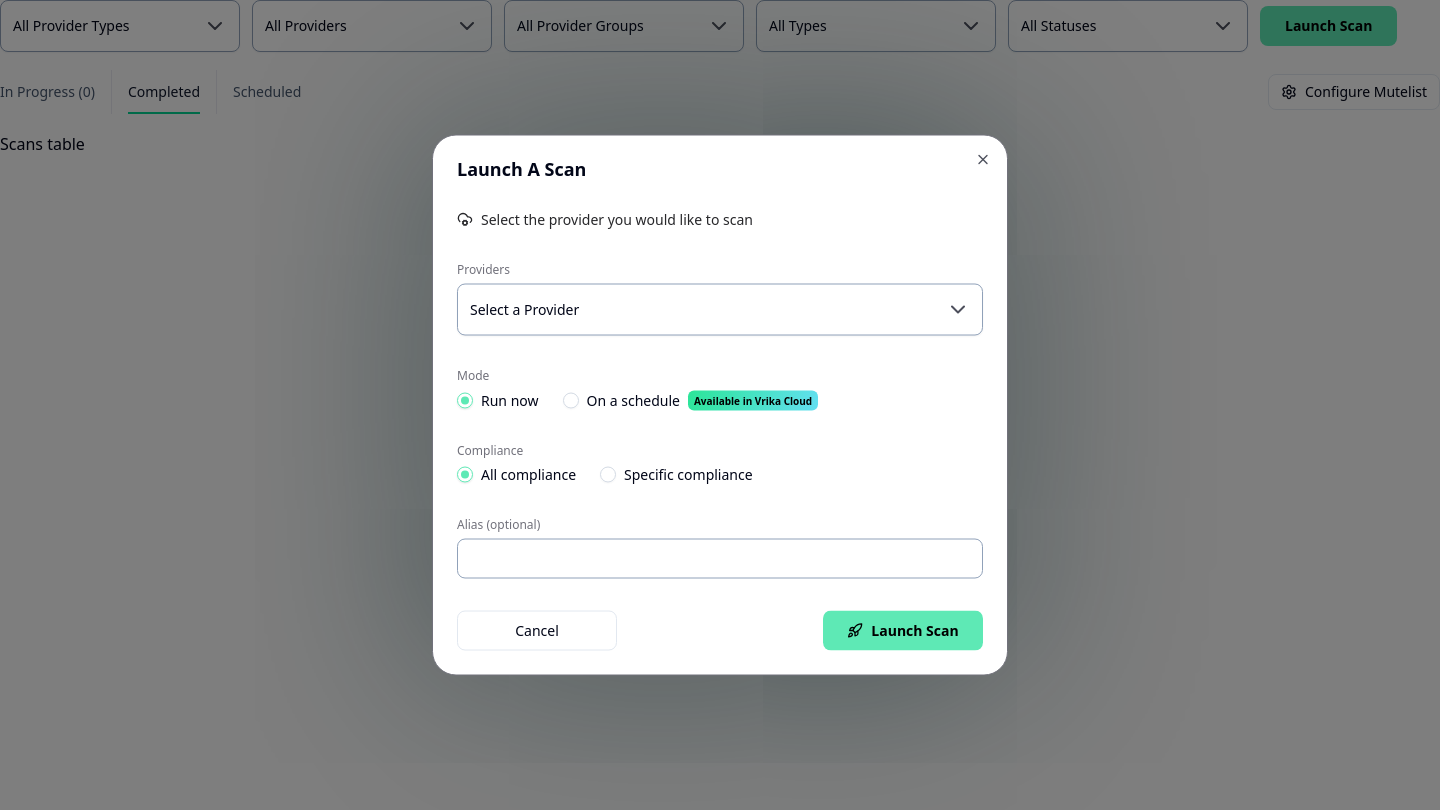
ScansPageShell › strips the launchScan URL param via the History API when closing the URL-opened modal
The width and height of the screenshot is (1440, 810).
Click the 1st button named "close" at (983, 160), box left=975, top=152, right=991, bottom=168
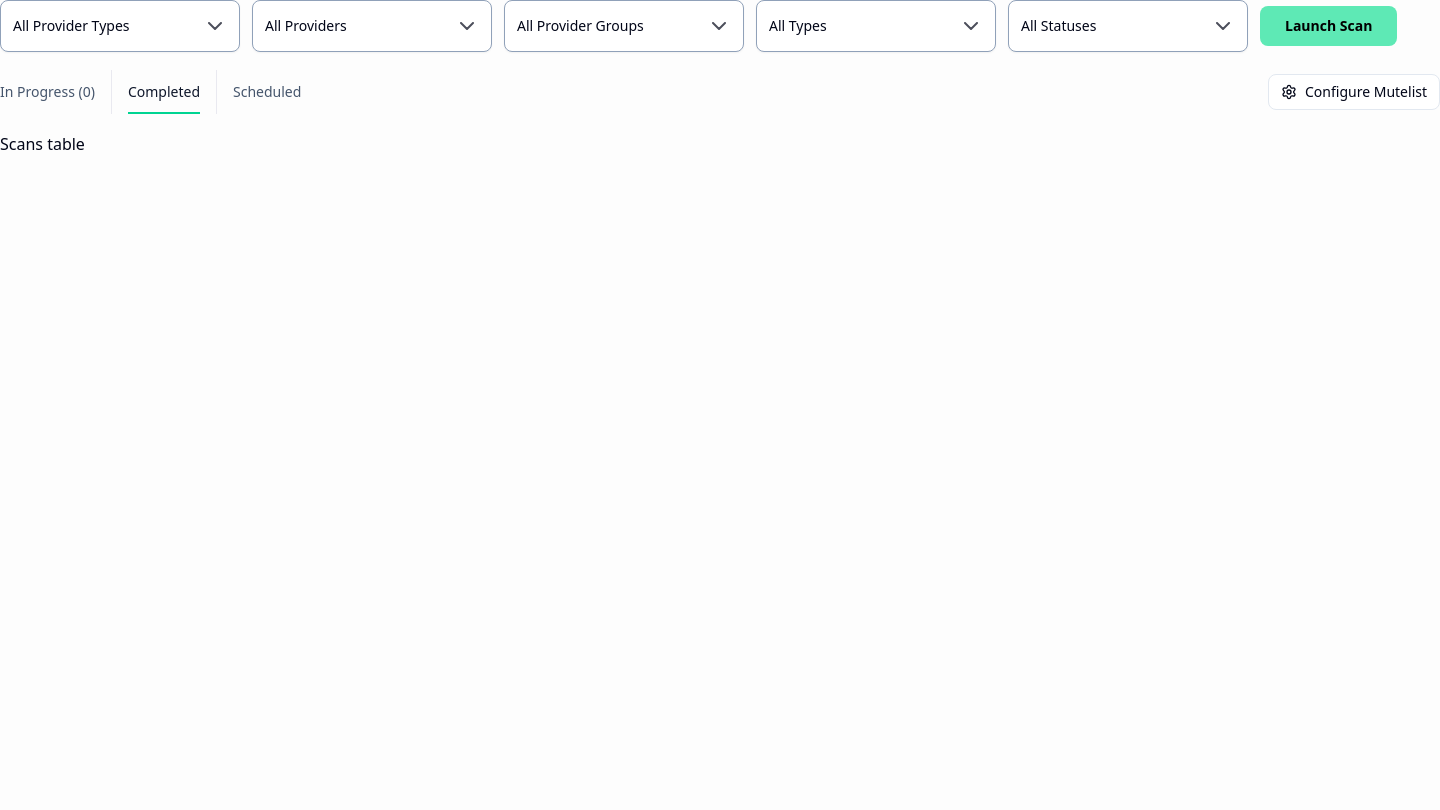
Expected: the dialog is gone
